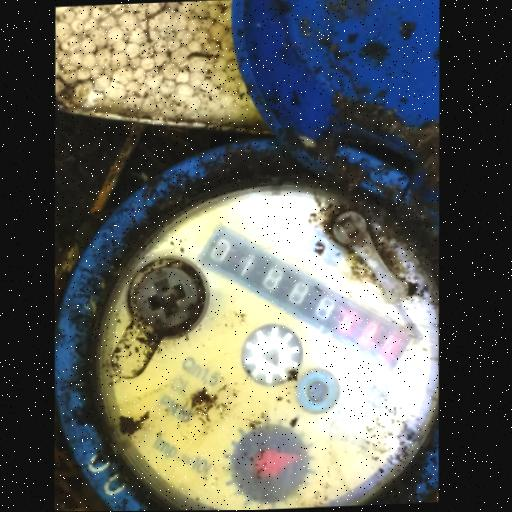0: (200, 230, 243, 272), (325, 300, 366, 340), (348, 313, 387, 352)
1: (226, 243, 269, 285)
4: (367, 319, 413, 367)
8: (275, 270, 324, 317), (250, 256, 295, 300), (303, 288, 342, 328)
border_water_meter_number: (189, 213, 422, 380)
